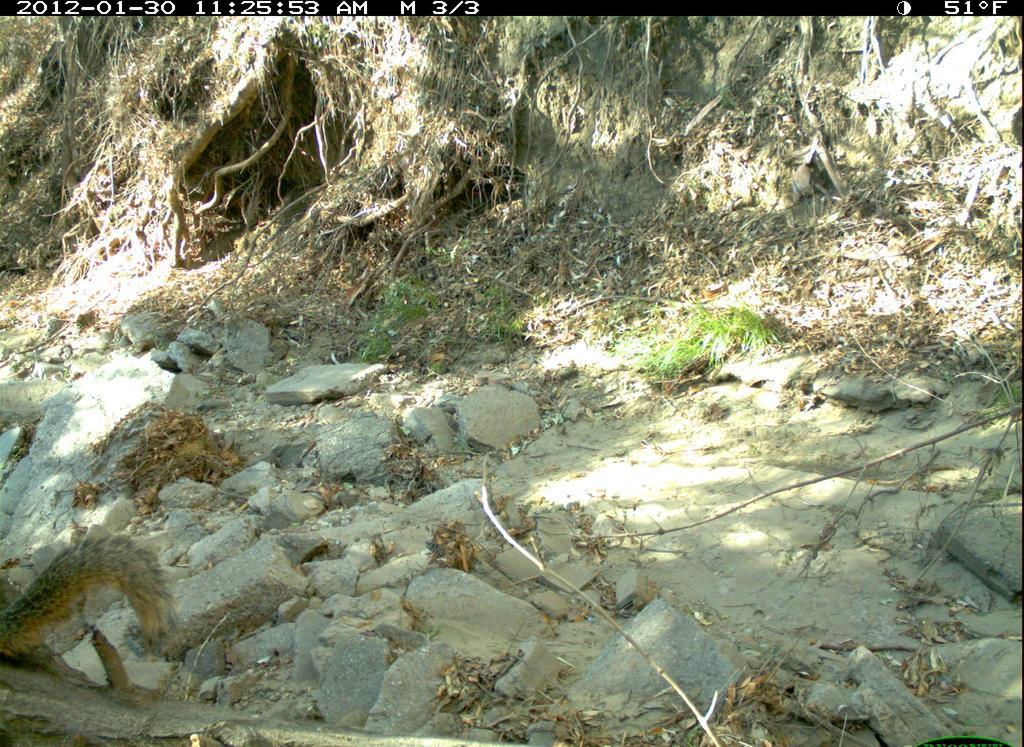squirrel: (4, 524, 185, 675)
